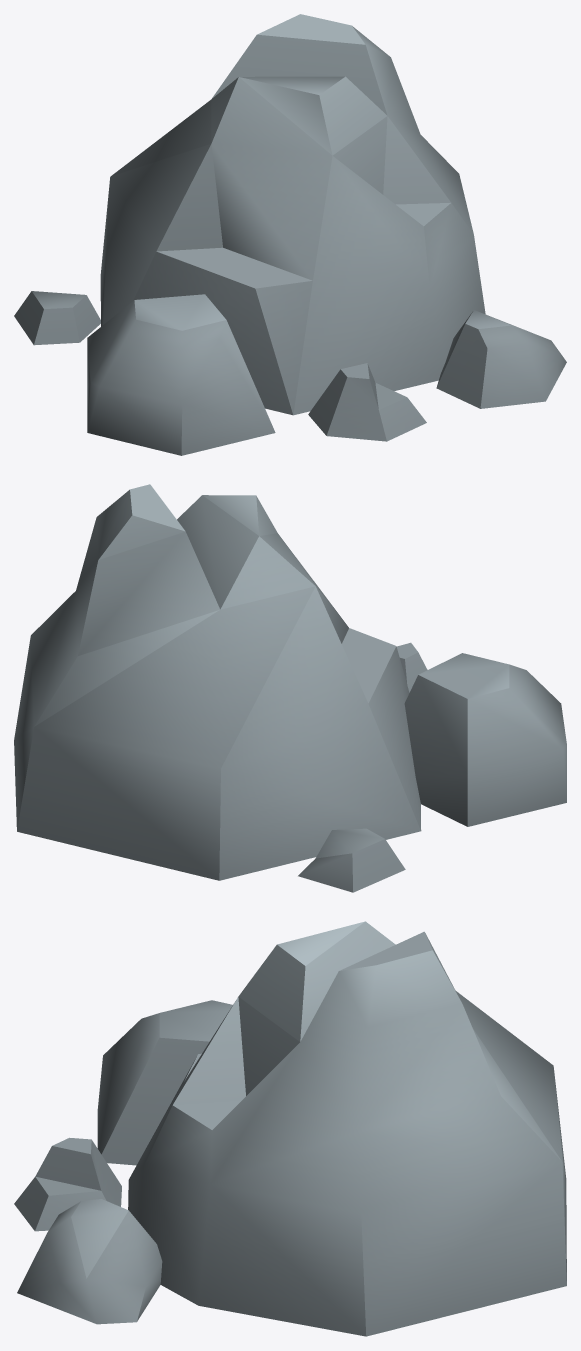
The model's file is rocks_b.glb.
The picture shows the model from 3 angles, top to bottom: view 1: azimuth 30°, elevation 25°; view 2: azimuth 150°, elevation 25°; view 3: azimuth 270°, elevation 25°; orthographic projection. The views are drawn at different scales.
Parts seen in each view (by area): view 1: rocks_B; view 2: rocks_B; view 3: rocks_B.
Part boxes in pixels (x1,y1,x2,y2): rocks_B: (14, 14, 566, 455); rocks_B: (14, 484, 566, 892); rocks_B: (14, 921, 566, 1336).
Bounding box in the file's own units: 5.64 × 3.2 × 5.22.
Materials: 1 (1 with a texture image).
